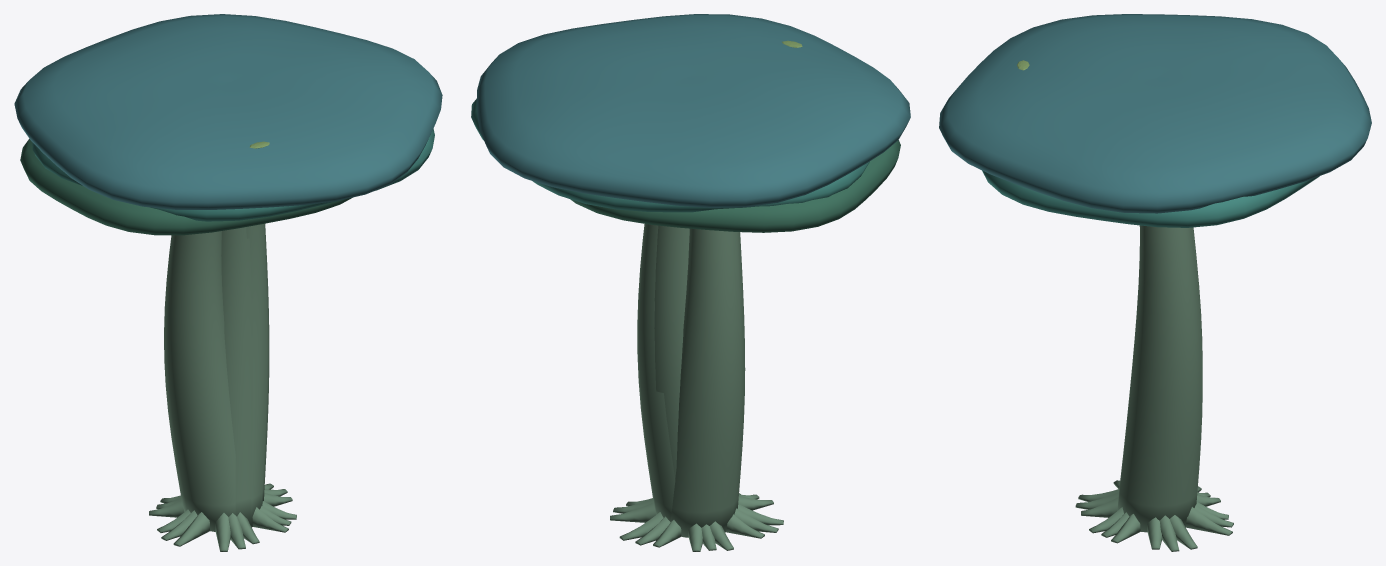
File: world12-giant-forest-v1.glb
The picture shows the model from 3 angles, left to right: view 1: azimuth 30°, elevation 25°; view 2: azimuth 150°, elevation 25°; view 3: azimuth 270°, elevation 25°; orthographic projection. The views are drawn at different scales.
Parts seen in each view (by area): view 1: forest-canopy-cap-blue, forest-tilted-bark, forest-canopy-bark, forest-parasol-bark, forest-tilted-cap-green, forest-parasol-cap-teal; view 2: forest-canopy-cap-blue, forest-tilted-bark, forest-parasol-bark, forest-canopy-bark, forest-tilted-cap-green, forest-parasol-cap-teal; view 3: forest-canopy-cap-blue, forest-parasol-bark, forest-parasol-cap-teal, forest-canopy-bark, forest-tilted-bark.
Boxes of the visible parts, left/top/right/bottom form: forest-canopy-cap-blue: left=14, top=14, right=442, bottom=209; forest-tilted-bark: left=156, top=231, right=291, bottom=549; forest-canopy-bark: left=149, top=227, right=296, bottom=546; forest-parasol-bark: left=157, top=223, right=292, bottom=551; forest-tilted-cap-green: left=20, top=139, right=352, bottom=235; forest-parasol-cap-teal: left=32, top=128, right=434, bottom=221; forest-canopy-cap-blue: left=476, top=14, right=910, bottom=207; forest-tilted-bark: left=613, top=228, right=778, bottom=550; forest-parasol-bark: left=619, top=224, right=773, bottom=551; forest-canopy-bark: left=610, top=225, right=783, bottom=550; forest-tilted-cap-green: left=570, top=140, right=900, bottom=232; forest-parasol-cap-teal: left=471, top=98, right=869, bottom=212; forest-canopy-cap-blue: left=939, top=14, right=1371, bottom=213; forest-parasol-bark: left=1078, top=225, right=1232, bottom=549; forest-parasol-cap-teal: left=982, top=170, right=1319, bottom=227; forest-canopy-bark: left=1081, top=227, right=1228, bottom=549; forest-tilted-bark: left=1075, top=285, right=1233, bottom=551.
Bounding box in the file's own units: 8.04 × 8.97 × 7.92.
